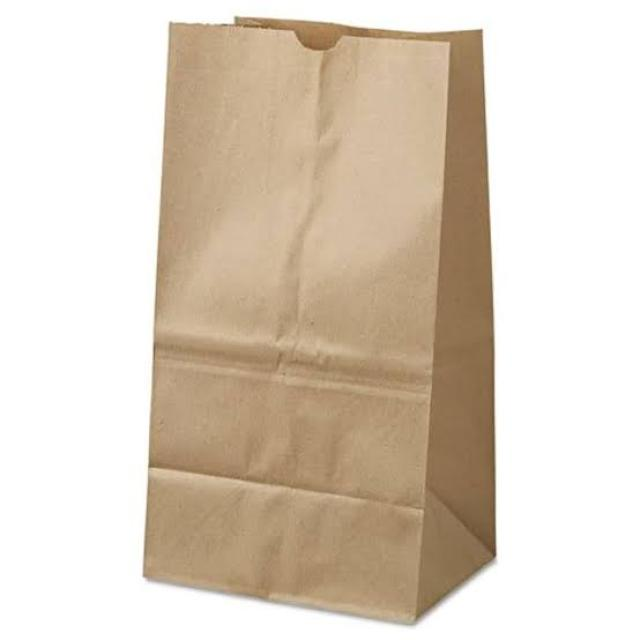paper: (129, 5, 503, 624)
